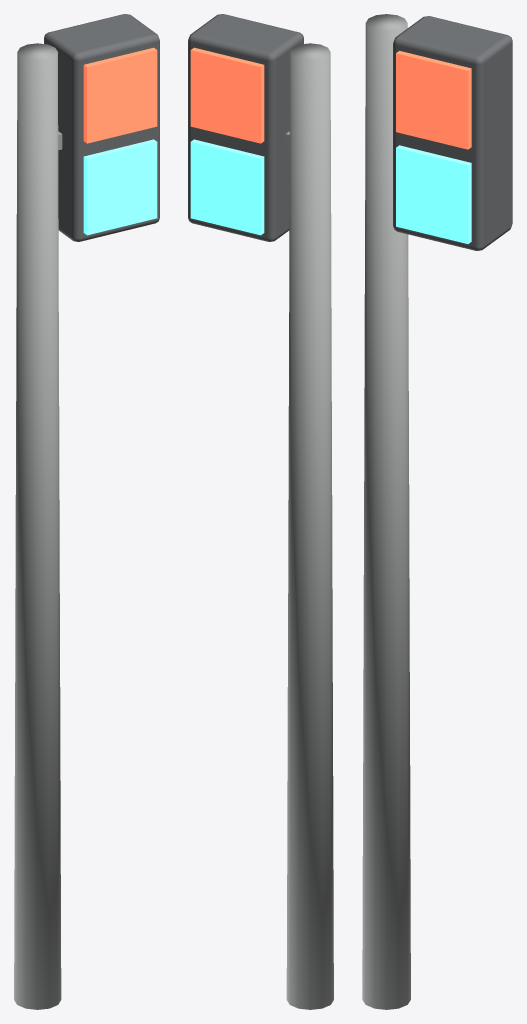
Rendered from ped_signal.glb.
3 views of the same model, side by side, from view 1: azimuth 30°, elevation 25°; view 2: azimuth 150°, elevation 25°; view 3: azimuth 330°, elevation 25° (orthographic). The views are drawn at different scales.
Parts seen in each view (by area): view 1: body, pedR, pedG; view 2: body, pedR, pedG; view 3: body, pedG, pedR.
Part boxes in pixels (x1,y1,x2,y2): body: (14,14,159,1009); pedR: (83,47,157,143); pedG: (83,139,157,235); body: (188,14,333,1009); pedR: (190,47,264,143); pedG: (190,139,264,235); body: (362,14,512,1009); pedG: (396,145,471,243); pedR: (396,51,471,149).
Bounding box in the file's own units: 0.44 × 3.11 × 0.24.
